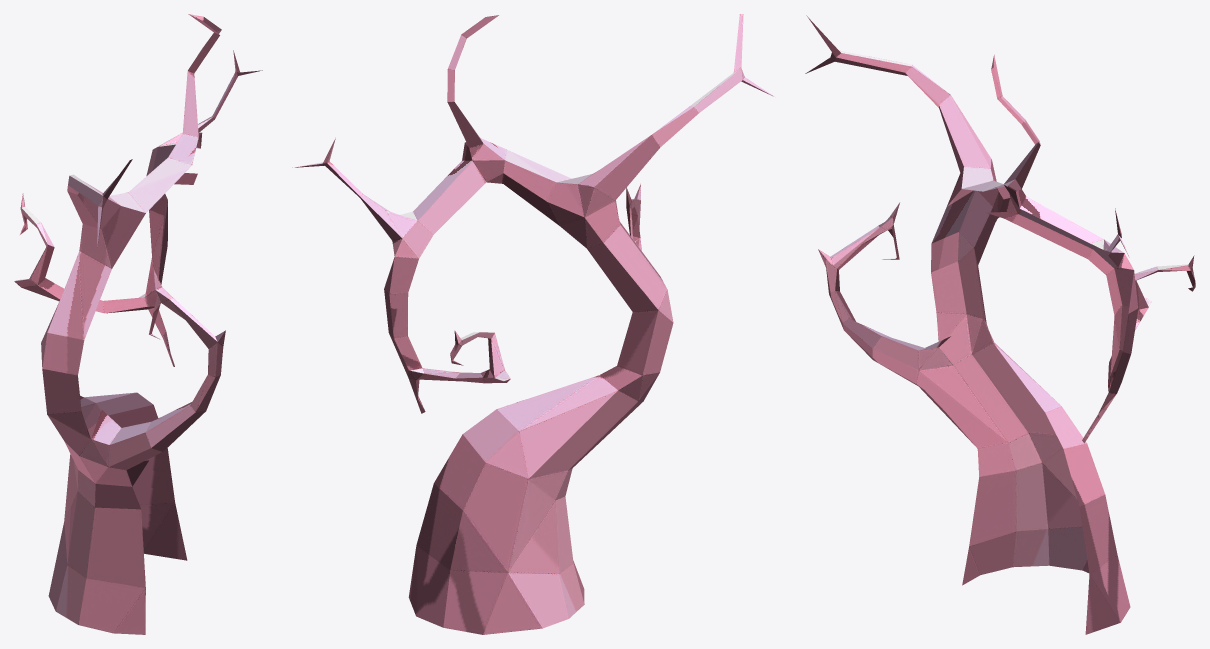
File: dikensiken.gltf
3 renders of one model, left to right at view 1: azimuth 30°, elevation 25°; view 2: azimuth 150°, elevation 25°; view 3: azimuth 270°, elevation 25°, orthographic. The views are drawn at different scales.
Parts seen in each view (by area): view 1: tree_02 LP Faceted 03; view 2: tree_02 LP Faceted 03; view 3: tree_02 LP Faceted 03.
Boxes of the visible parts, box(x1,y1,x2,y2) form: tree_02 LP Faceted 03: box(14, 14, 262, 634); tree_02 LP Faceted 03: box(292, 14, 774, 634); tree_02 LP Faceted 03: box(805, 15, 1195, 634).
Bounding box in the file's own units: 7.73 × 12.91 × 8.2.
1 material, 1 textured.
